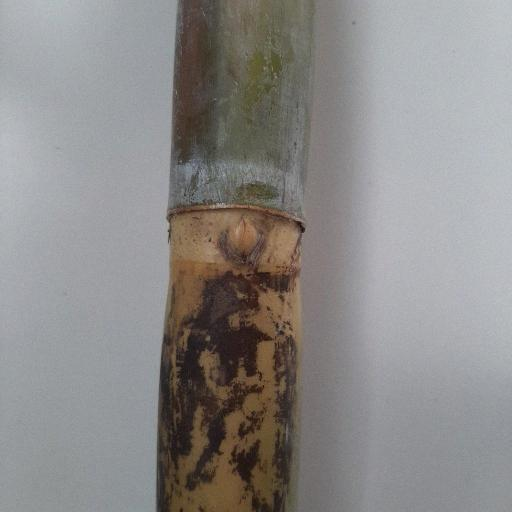Bud: (225, 211, 261, 263)
